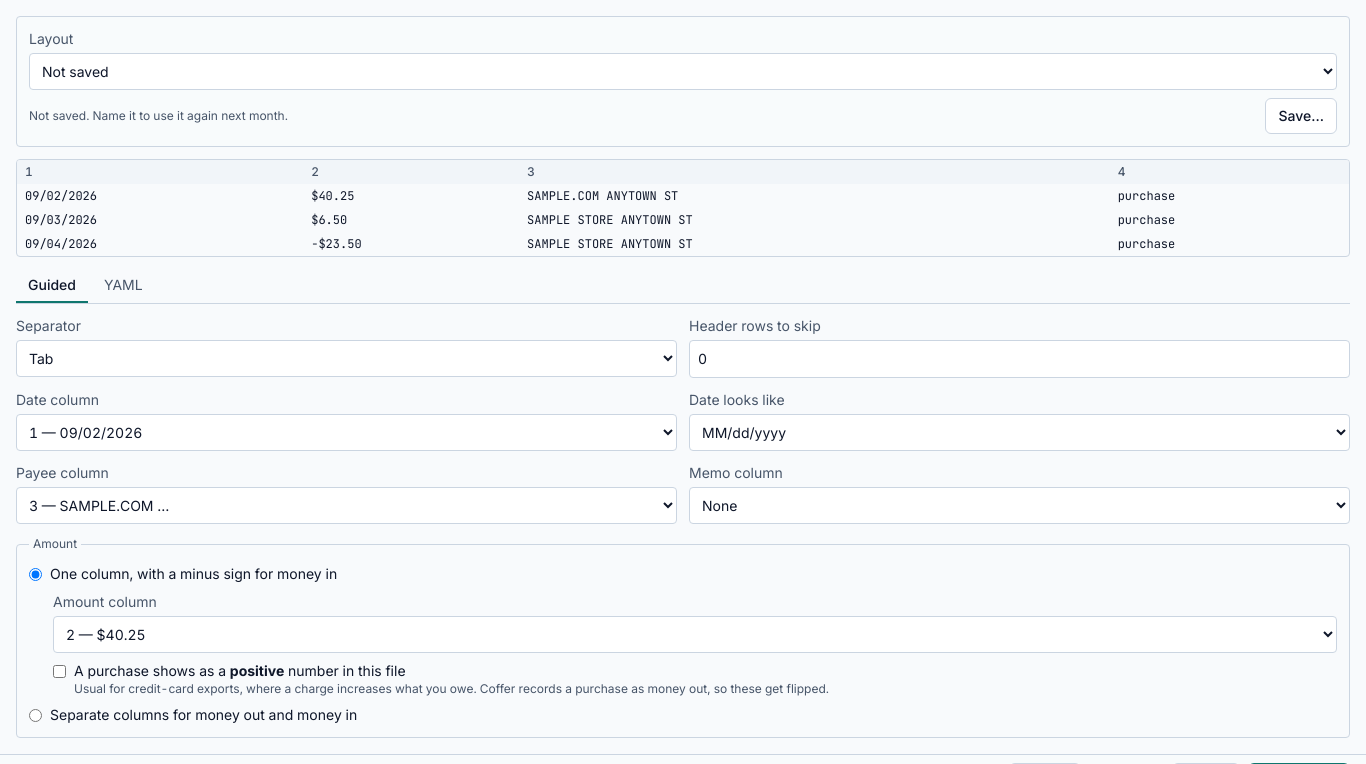
Scenario: CsvMappingStep › keeps the data on screen when the YAML tab takes over
Check: the table is shown, box [17,160,1349,256]
Click the tab "YAML" at (123,286), box [92,269,155,303]
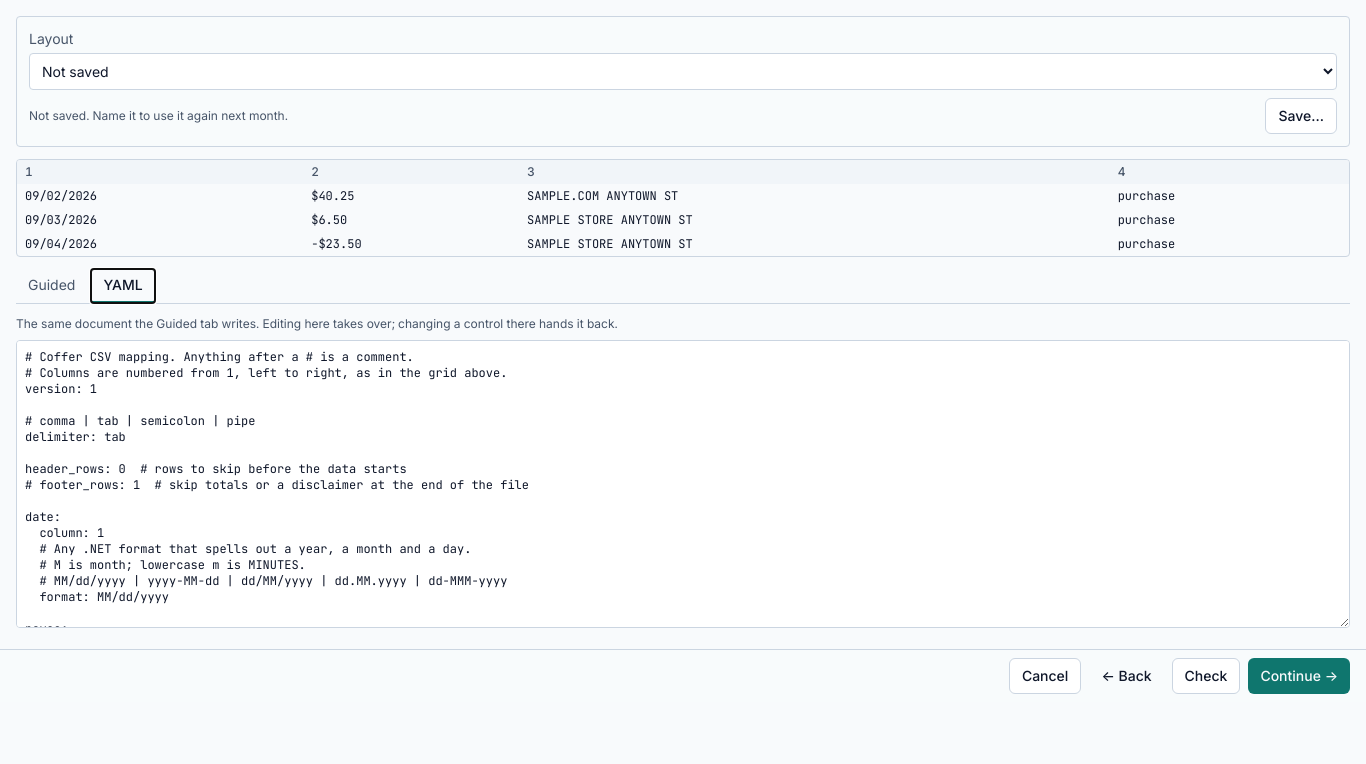
Check: the text "$40.25" is shown, box [303,184,519,208]
Check: the text labelled "Date column" is gone
Check: the text box named "mapping yaml" is shown, box [16,340,1350,628]
